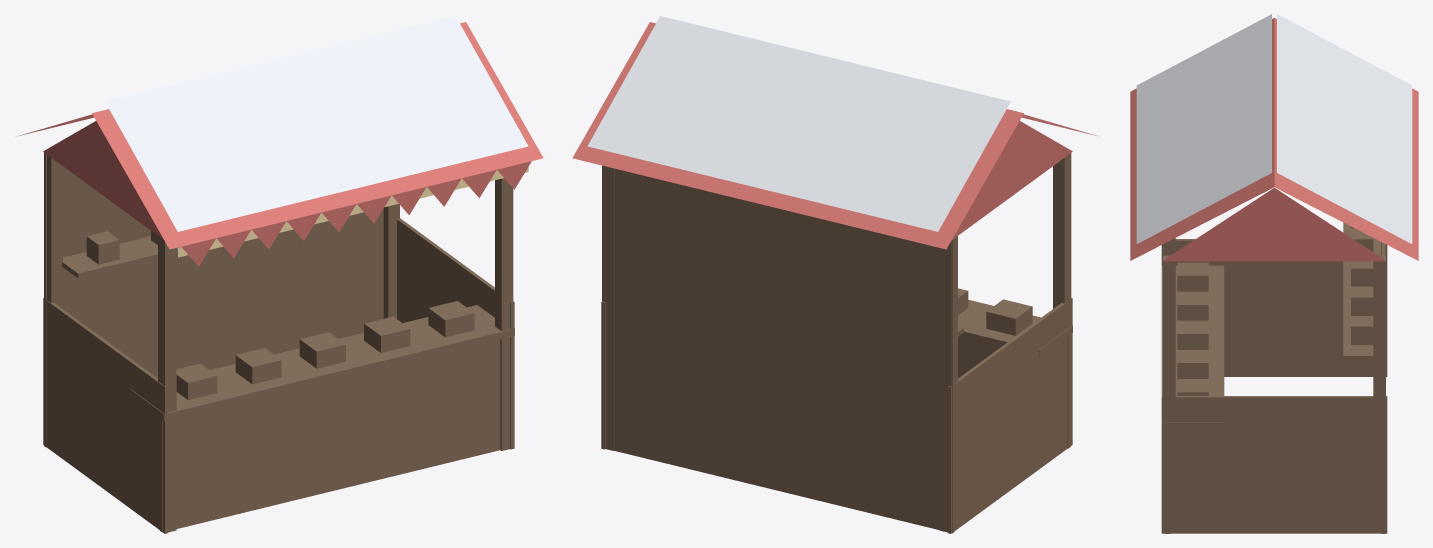
Rendered from market_stall.glb.
The picture shows the model from 3 angles, left to right: view 1: azimuth 30°, elevation 25°; view 2: azimuth 150°, elevation 25°; view 3: azimuth 270°, elevation 25°; orthographic projection. The views are drawn at different scales.
Visible parts, largest first — view 1: market_stall, snow, roof, lights_string; view 2: market_stall, snow, roof; view 3: market_stall, snow, roof.
Part boxes in pixels (bbox=[...]): market_stall: bbox=[43, 152, 514, 533]; snow: bbox=[105, 16, 528, 231]; roof: bbox=[19, 22, 543, 266]; lights_string: bbox=[178, 167, 528, 257]; market_stall: bbox=[601, 153, 1072, 533]; snow: bbox=[587, 16, 1010, 231]; roof: bbox=[572, 22, 1096, 249]; market_stall: bbox=[1161, 222, 1387, 533]; snow: bbox=[1136, 14, 1412, 243]; roof: bbox=[1130, 18, 1418, 261].
Bounding box in the file's own units: 3.2 × 3.18 × 2.3.
